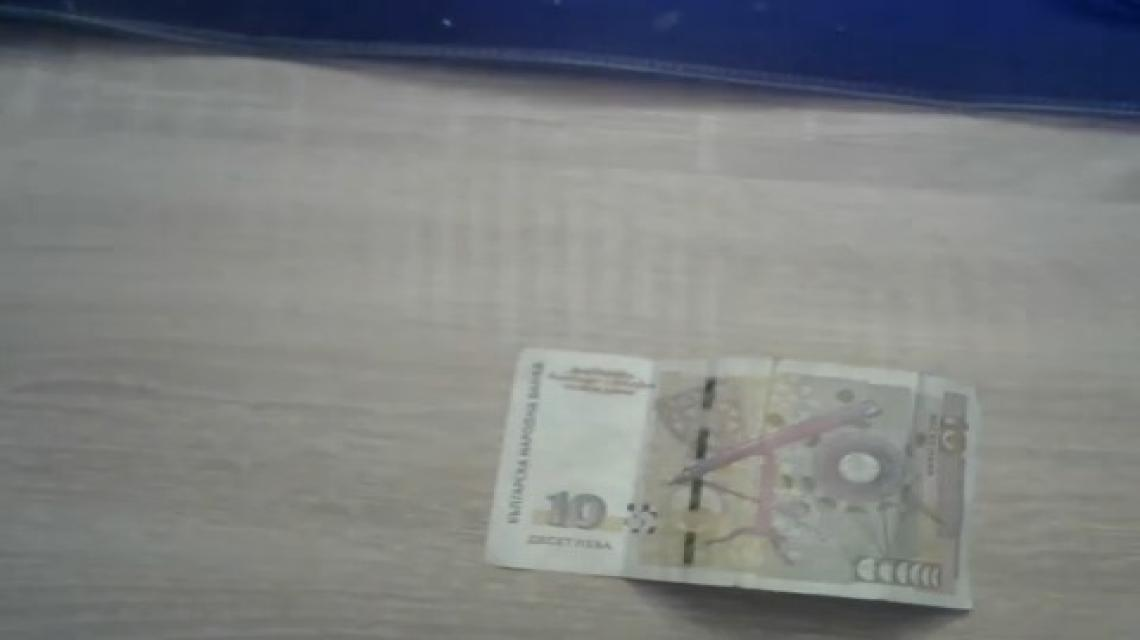10leva: (482, 348, 983, 613)
